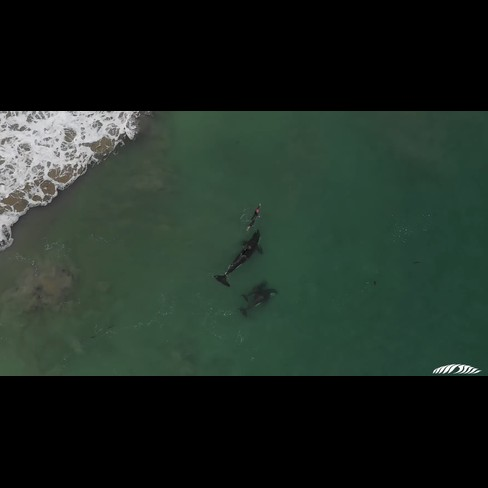orca: (210, 223, 266, 293), (240, 288, 278, 319)
